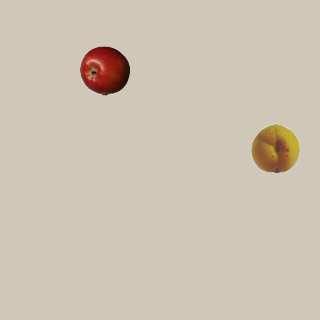Apple Braeburn: (79, 45, 129, 95)
Peach 2: (250, 122, 300, 172)
